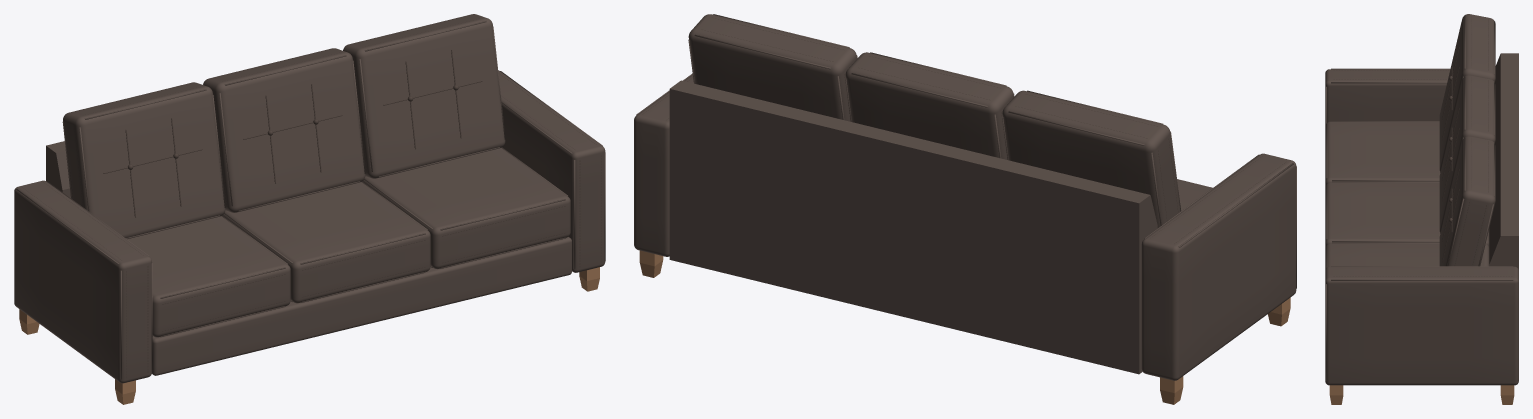
The model's file is benza_220x85.glb.
3 renders of one model, left to right at view 1: azimuth 30°, elevation 25°; view 2: azimuth 150°, elevation 25°; view 3: azimuth 270°, elevation 25°, orthographic. The views are drawn at different scales.
Visible parts, largest first — view 1: p1, p2, p0; view 2: p1, p0, p2; view 3: p1, p2, p0.
Boxes of the visible parts, x1,y1,x2,y2 form: p1: [14, 14, 605, 383]; p2: [22, 15, 601, 377]; p0: [19, 267, 599, 404]; p1: [634, 14, 1296, 380]; p0: [639, 250, 1290, 404]; p2: [642, 17, 1286, 243]; p1: [1325, 14, 1518, 385]; p2: [1333, 16, 1512, 276]; p0: [1329, 385, 1514, 404].
Size of the model in its own units: 2.2 by 0.9642 by 0.8506.
3 materials, 2 textured.
